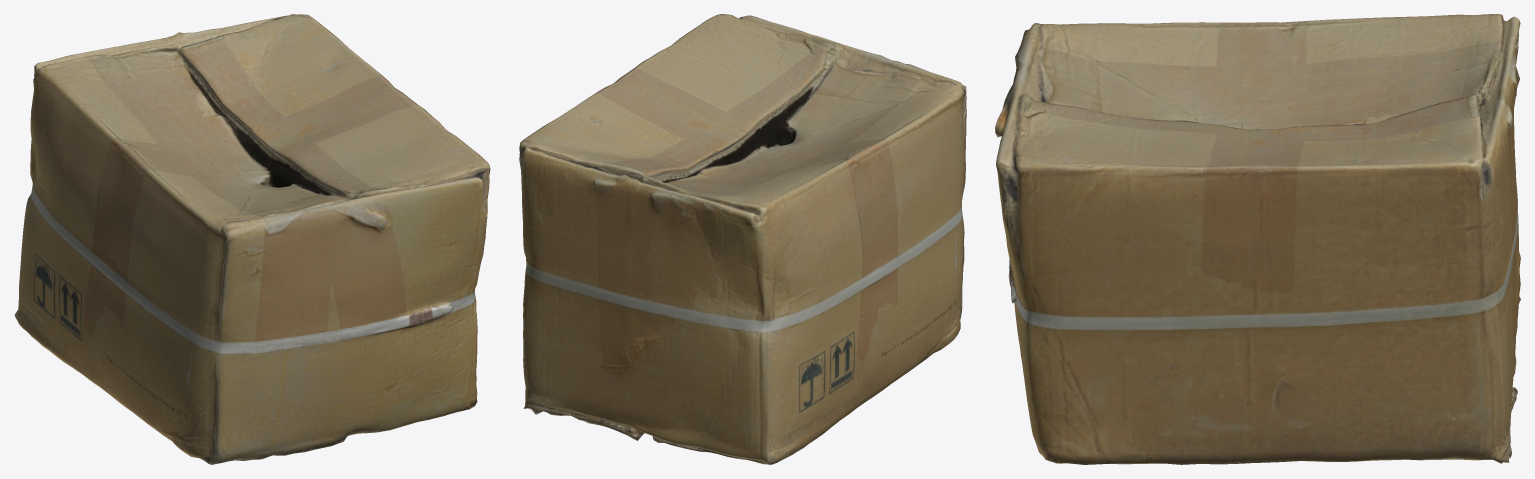
The model's file is cardboard_box_01.glb.
3 views of the same model, side by side, from view 1: azimuth 30°, elevation 25°; view 2: azimuth 150°, elevation 25°; view 3: azimuth 270°, elevation 25° (orthographic). The views are drawn at different scales.
Parts seen in each view (by area): view 1: cardboard_box_01; view 2: cardboard_box_01; view 3: cardboard_box_01.
Boxes of the visible parts, <box> form: cardboard_box_01: <box>14,14,490,464</box>; cardboard_box_01: <box>519,14,966,464</box>; cardboard_box_01: <box>995,14,1520,464</box>.
Bounding box in the file's own units: 0.387 × 0.3418 × 0.5159.
1 material, 1 textured.
